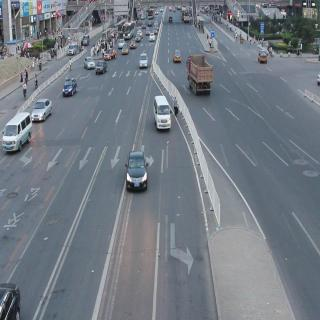BigCar: (182, 55, 217, 100)
Car: (8, 109, 32, 164), (128, 144, 148, 198), (30, 87, 56, 126), (57, 68, 81, 110), (151, 95, 173, 131), (171, 44, 187, 65), (256, 49, 272, 67), (138, 47, 149, 71), (83, 52, 95, 74), (98, 56, 106, 81), (165, 11, 175, 30), (121, 37, 129, 60), (151, 30, 155, 44)
